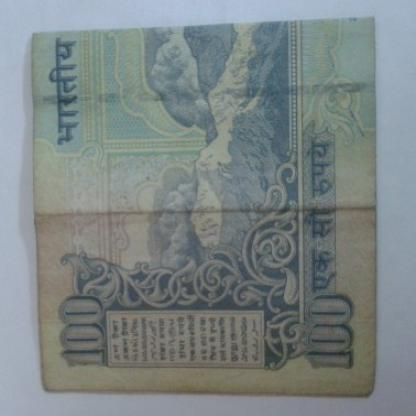Old100Back: (31, 16, 380, 398)
